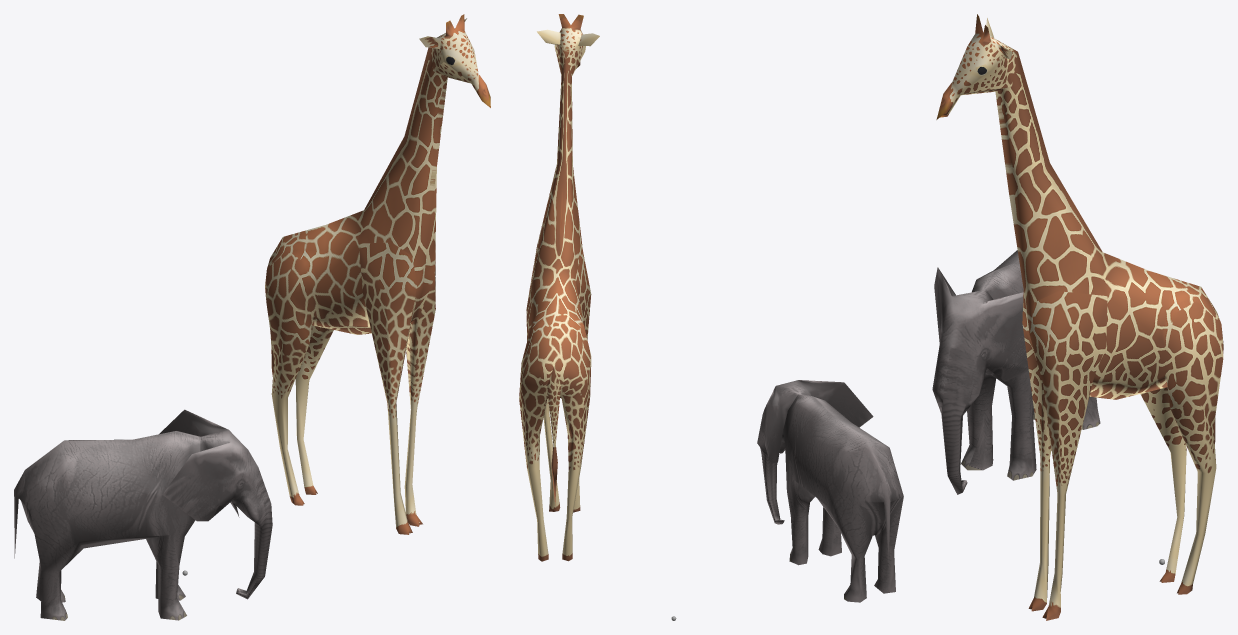
File: zoo.fbx
3 renders of one model, left to right at view 1: azimuth 30°, elevation 25°; view 2: azimuth 150°, elevation 25°; view 3: azimuth 270°, elevation 25°, orthographic. The views are drawn at different scales.
Parts seen in each view (by area): view 1: DWZC_L; view 2: DWZC_L; view 3: DWZC_L.
Boxes of the visible parts, bbox=[...] form: DWZC_L: bbox=[14, 14, 490, 620]; DWZC_L: bbox=[519, 14, 903, 602]; DWZC_L: bbox=[932, 14, 1223, 620].
Bounding box in the file's own units: 186 × 240 × 96.91.
